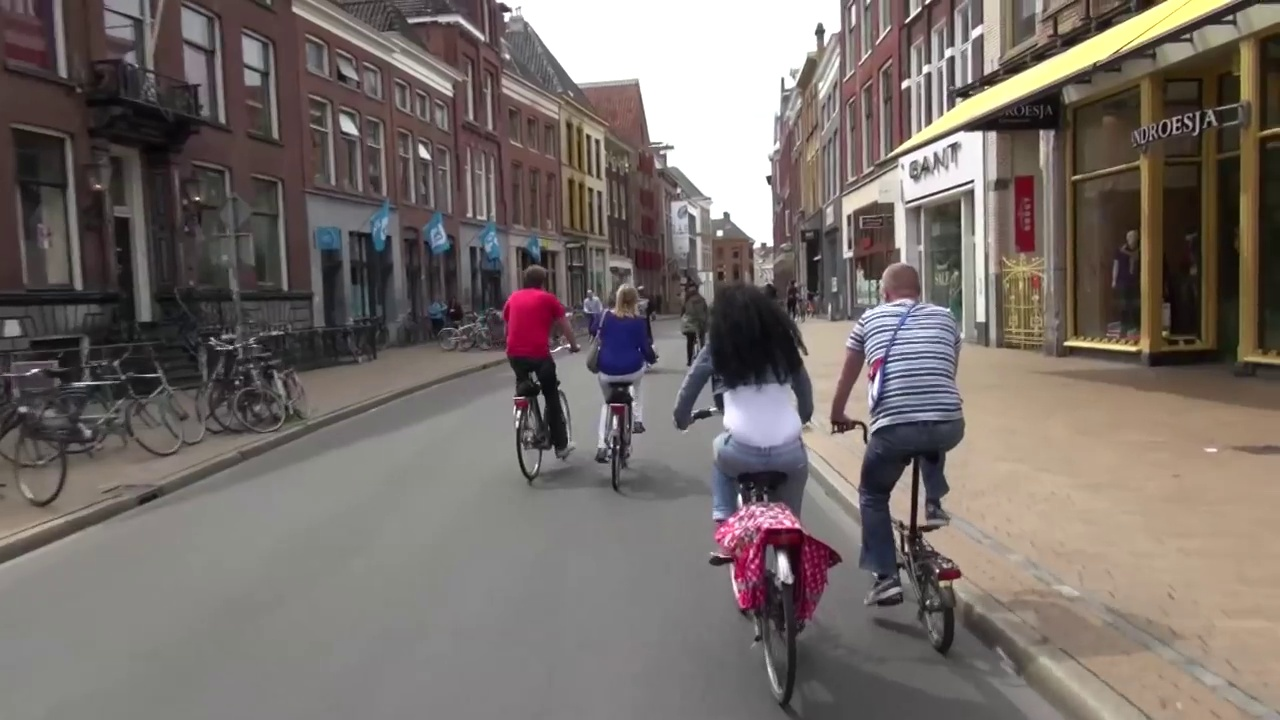cyclist_back: (674, 278, 843, 706), (829, 259, 980, 652), (501, 261, 584, 483), (587, 280, 663, 496)
